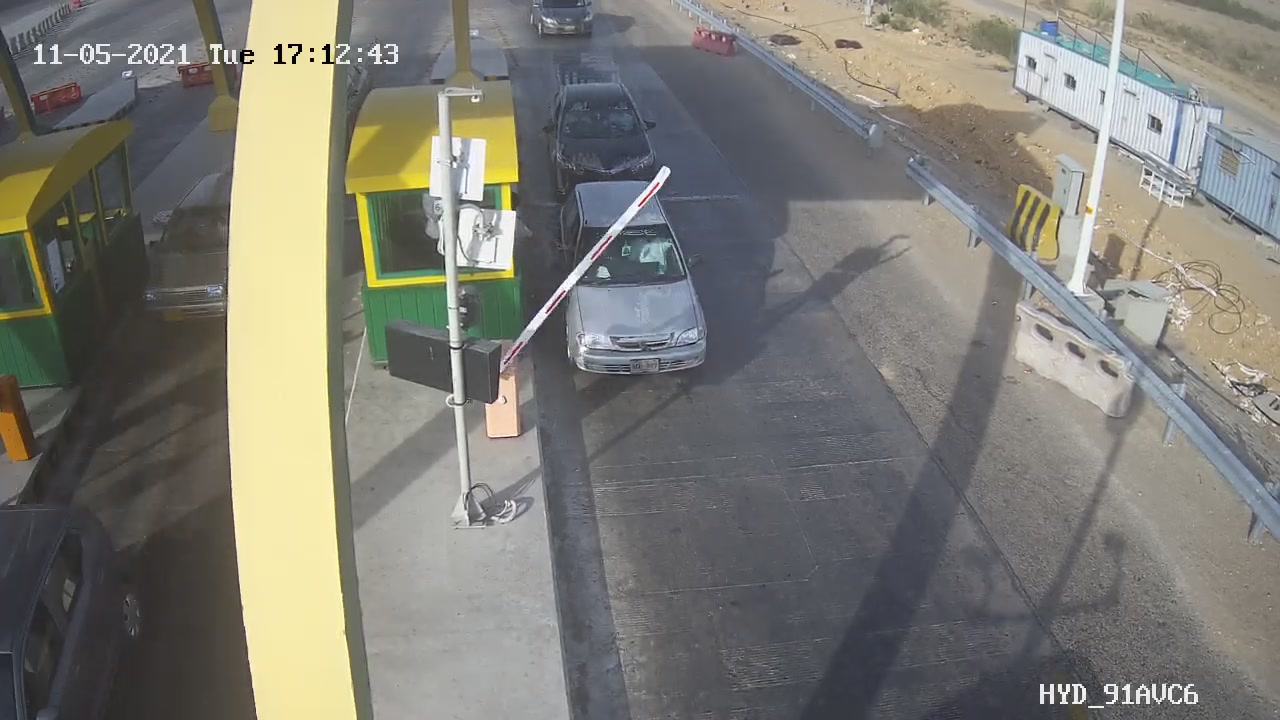F1: (539, 172, 733, 395)
